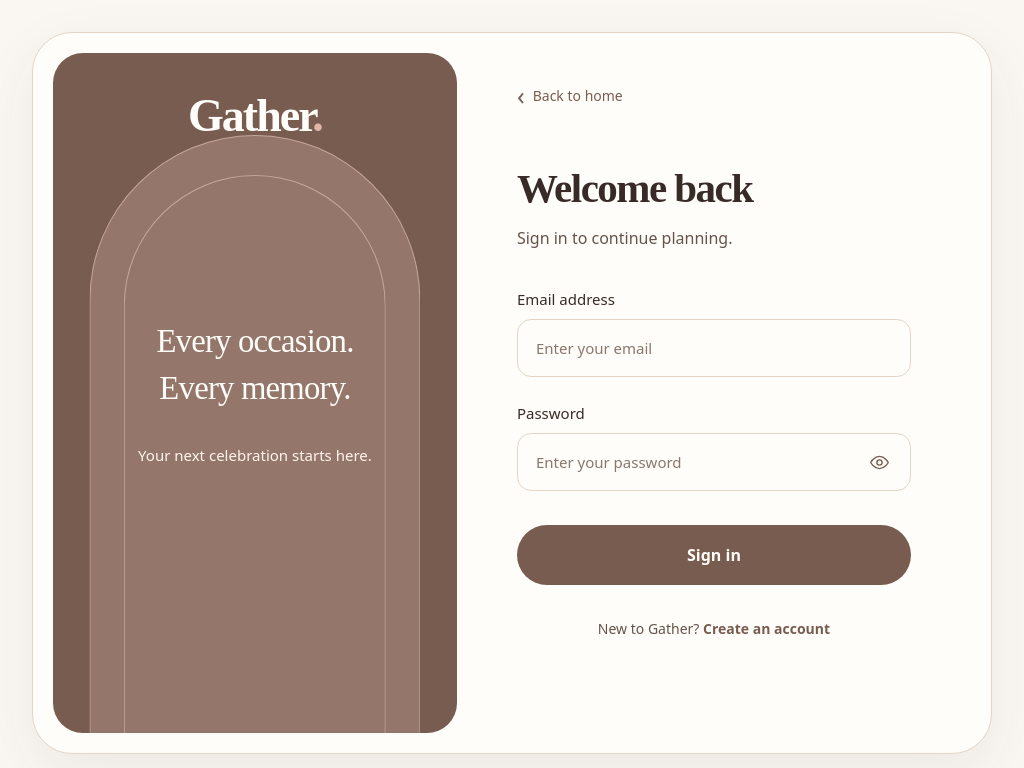
it: Login form › displays errors when required fields are empty
Click the button "Sign in": (714, 555) [517,525,911,585]
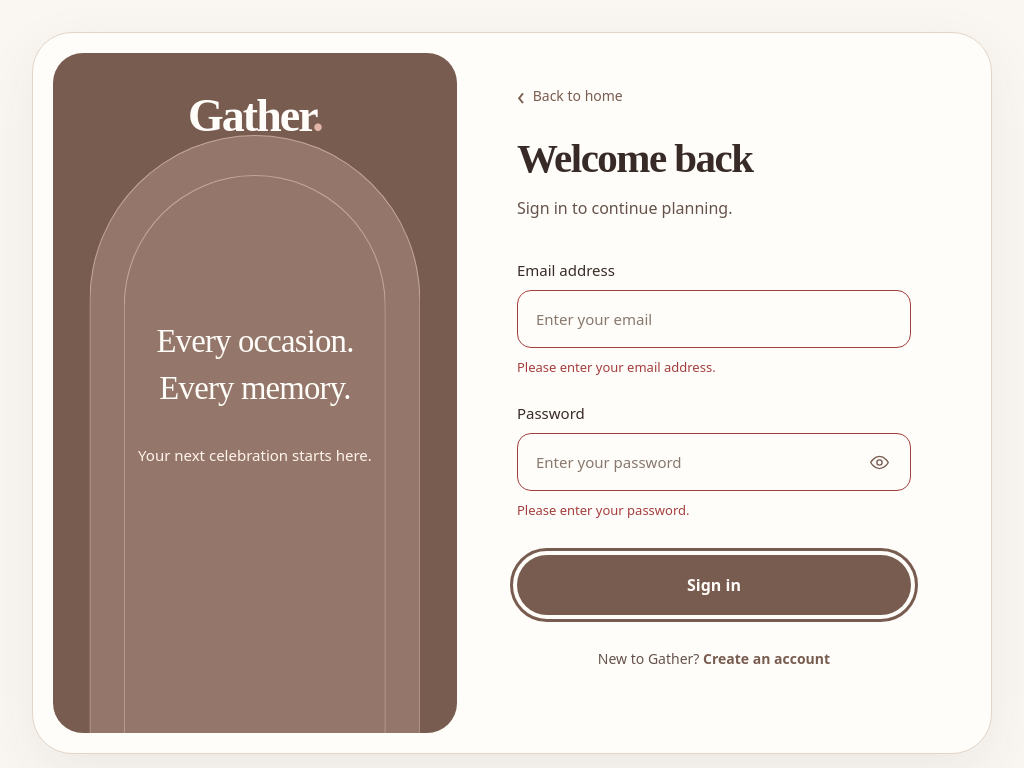
Result: the text "Please enter your email address." is shown at [517,358,716,376]
Result: the text "Please enter your password." is shown at [517,501,690,519]
